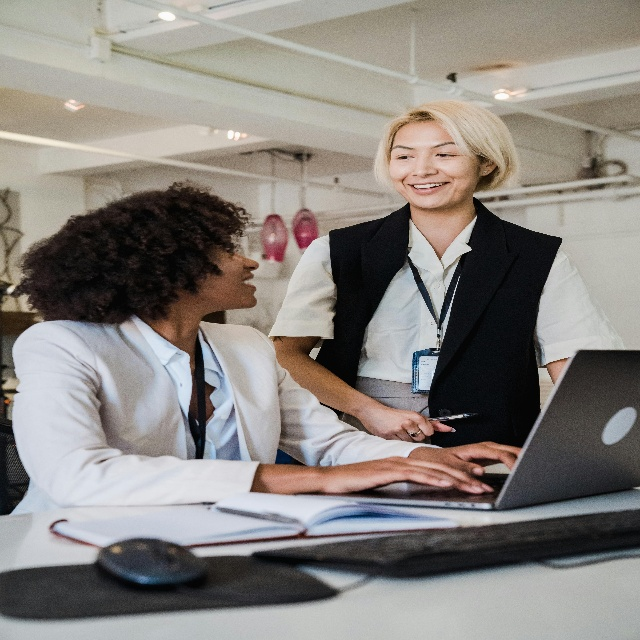Sin_guantes: (320, 456, 494, 495), (409, 441, 522, 476), (360, 401, 456, 442)
